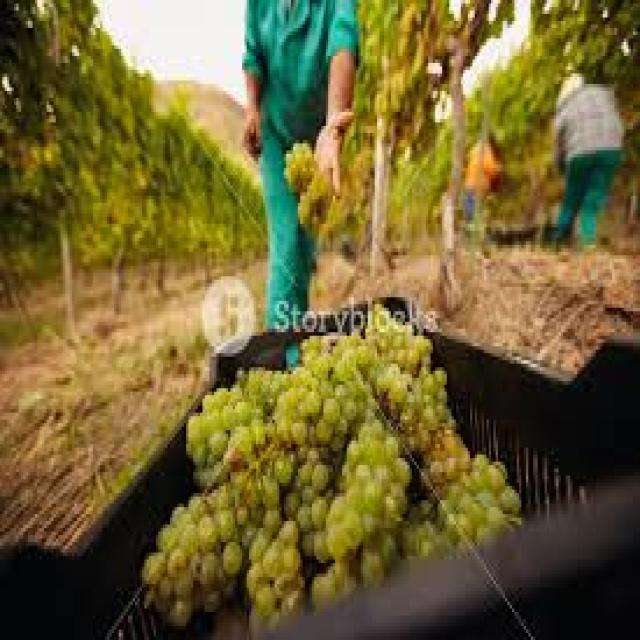basket: (0, 422, 246, 640), (200, 322, 309, 394), (302, 304, 373, 336), (377, 291, 429, 330)
